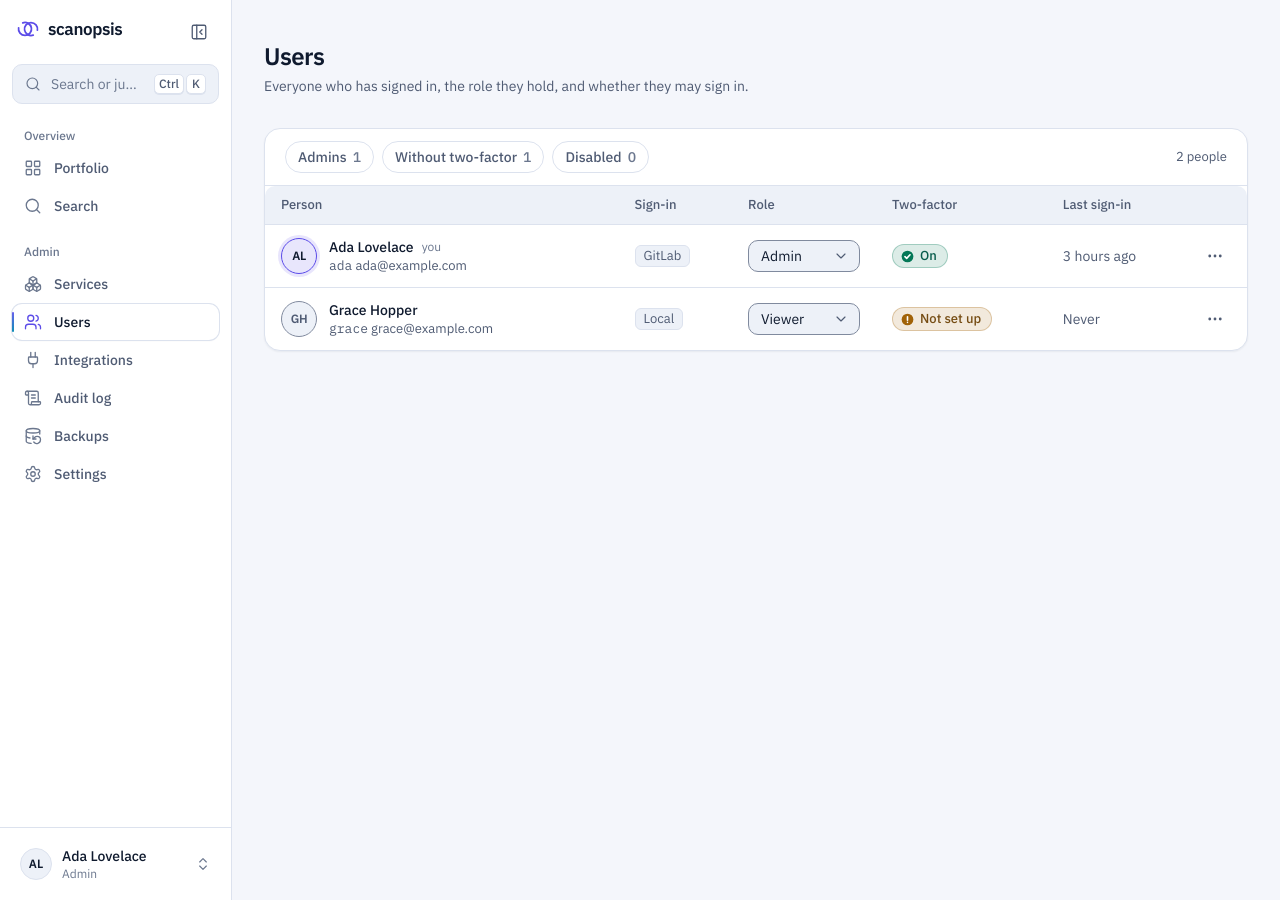
Test: users page › sends a PATCH with the new role and confirms with a toast
Press Enter in the dropdown named "Role for grace", box [748,303,860,335]
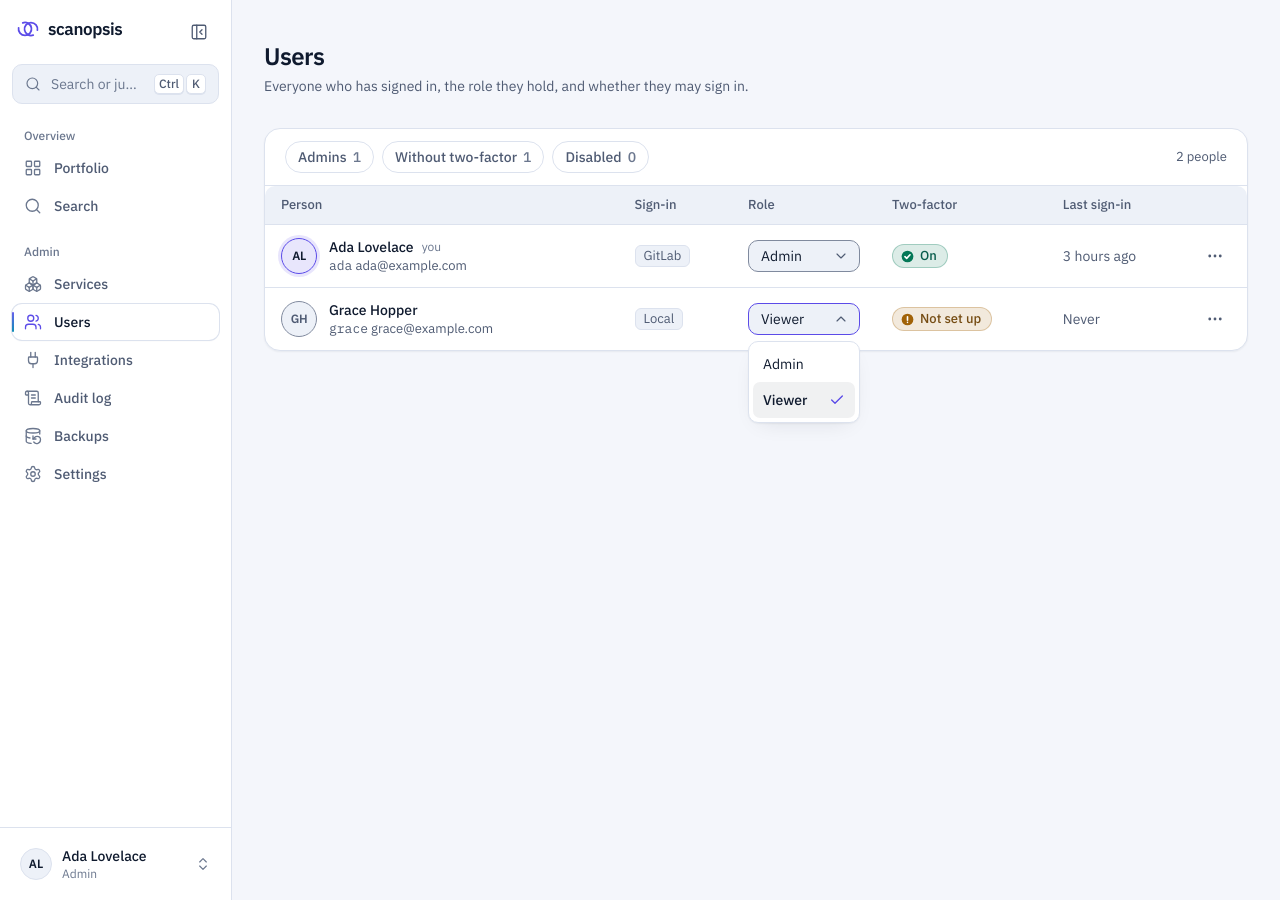
Click the option "Admin" at point(783, 364), box [763,355,804,373]
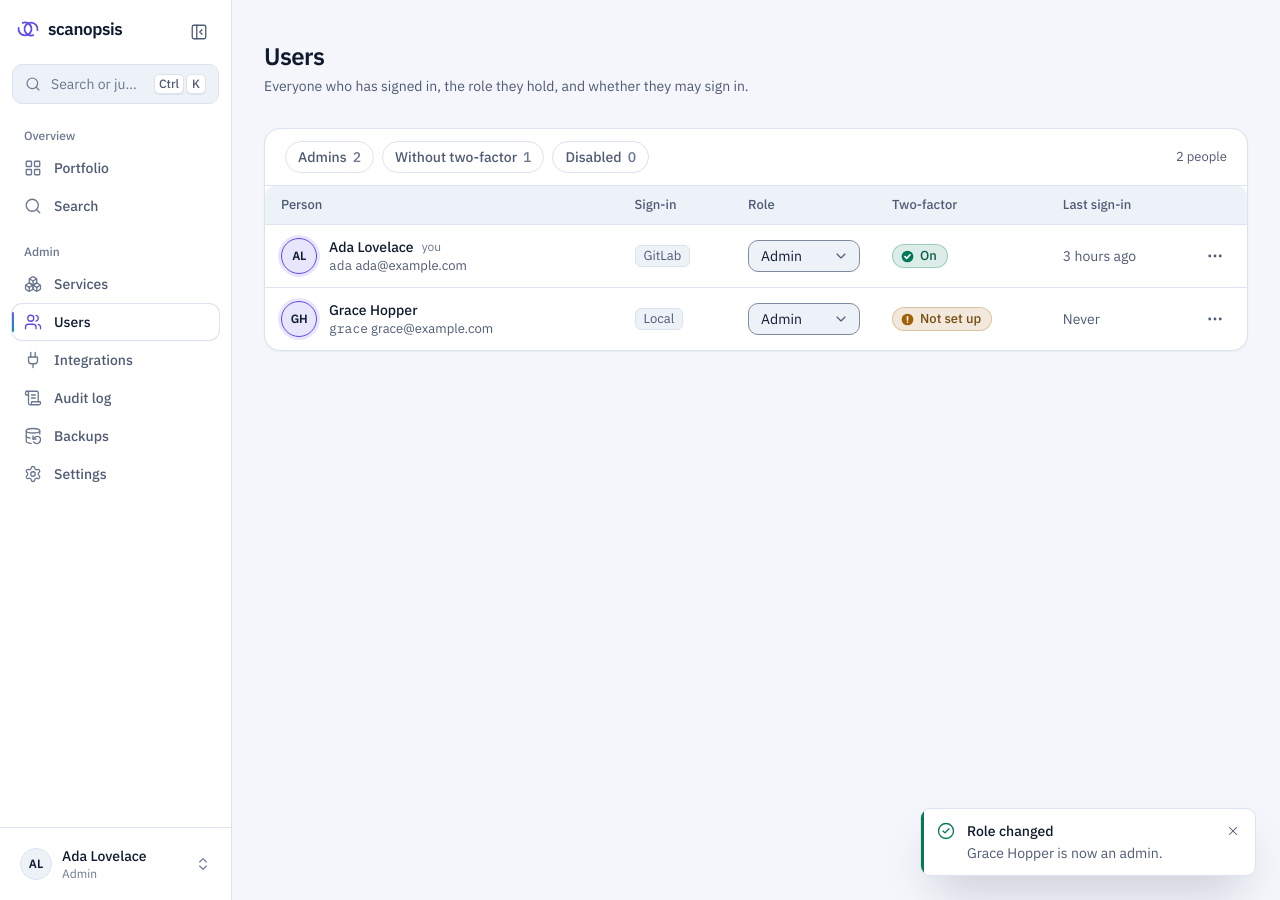
Check: the text "Role changed" is shown, box [967,822,1054,840]
Check: the text "Grace Hopper is now an admin." is shown, box [967,843,1163,863]
Check: the dropdown named "Role for grace" reads "Admin", box [748,303,860,335]
